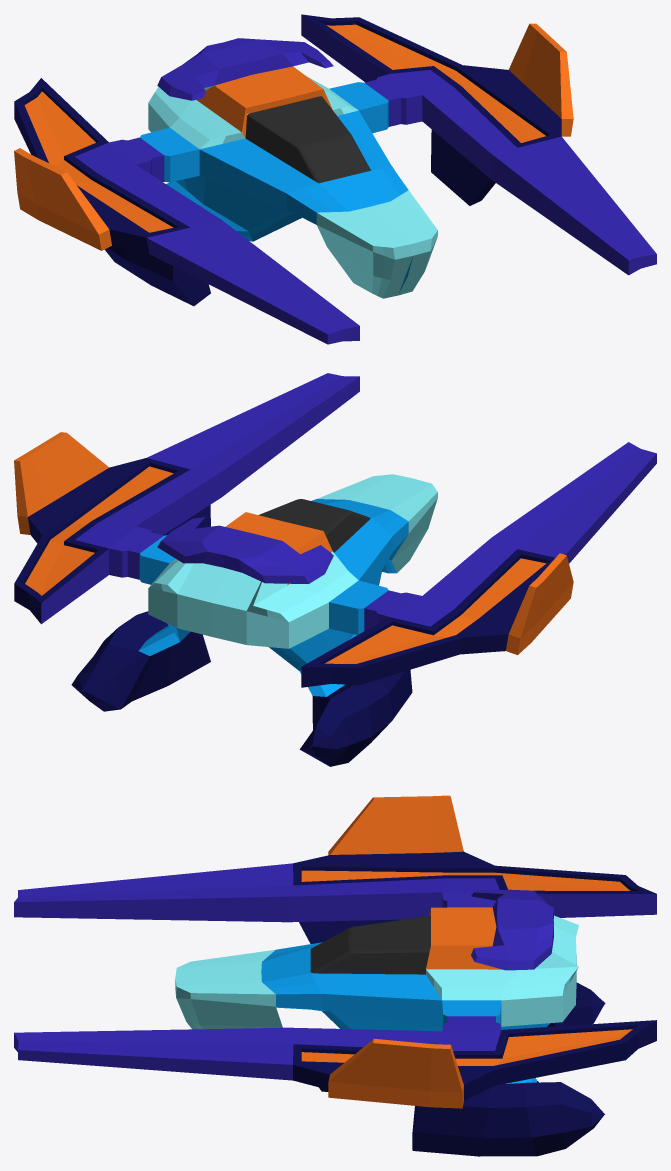
The model's file is enemies.fbx.
3 renders of one model, top to bottom at view 1: azimuth 30°, elevation 25°; view 2: azimuth 150°, elevation 25°; view 3: azimuth 270°, elevation 25°, orthographic.
Parts seen in each view (by area): view 1: enemy body.006, enemy body, enemy body.002, enemy body.010, enemy body.004, enemy body.001, Cube.002, enemy body.003, enemy body.009, enemy body.005, enemy body.007, enemy body.014 (+4 smaller); view 2: enemy body.006, enemy body.007, enemy body.011, enemy body.004, enemy body, enemy body.002, enemy body.001, enemy body.003, enemy body.005, enemy body.010, Cube.002, enemy body.009 (+3 smaller); view 3: enemy body.006, enemy body.002, enemy body.007, enemy body, enemy body.004, enemy body.010, enemy body.001, Cube.002, enemy body.011, enemy body.003, enemy body.009, enemy body.005 (+4 smaller).
Part boxes in pixels (<box>): enemy body.006: <box>75,15,656,344</box>; enemy body: <box>140,82,412,294</box>; enemy body.002: <box>14,23,573,250</box>; enemy body.010: <box>316,190,437,298</box>; enemy body.004: <box>14,14,561,237</box>; enemy body.001: <box>24,24,545,232</box>; Cube.002: <box>245,96,369,182</box>; enemy body.003: <box>157,38,333,100</box>; enemy body.009: <box>196,66,332,137</box>; enemy body.005: <box>86,65,561,253</box>; enemy body.007: <box>104,167,393,306</box>; enemy body.014: <box>170,83,358,149</box>; enemy body.006: <box>41,373,656,626</box>; enemy body.007: <box>71,611,412,766</box>; enemy body.011: <box>148,560,328,648</box>; enemy body.004: <box>14,458,555,687</box>; enemy body: <box>83,499,408,746</box>; enemy body.002: <box>14,432,573,655</box>; enemy body.001: <box>25,466,546,663</box>; enemy body.003: <box>157,517,333,583</box>; enemy body.005: <box>28,458,528,654</box>; enemy body.010: <box>317,474,437,572</box>; Cube.002: <box>258,499,369,552</box>; enemy body.009: <box>225,512,332,585</box>; enemy body.006: <box>14,863,656,1080</box>; enemy body.002: <box>328,795,463,1108</box>; enemy body.007: <box>412,982,605,1156</box>; enemy body: <box>261,907,550,1083</box>; enemy body.004: <box>293,863,656,1085</box>; enemy body.010: <box>175,949,282,1029</box>; enemy body.001: <box>301,870,632,1065</box>; Cube.002: <box>310,915,430,974</box>; enemy body.011: <box>501,915,578,1026</box>; enemy body.003: <box>471,889,553,970</box>; enemy body.009: <box>426,907,501,969</box>; enemy body.005: <box>293,851,494,1100</box>.
Bounding box in the file's own units: 1307 × 455 × 1401.
